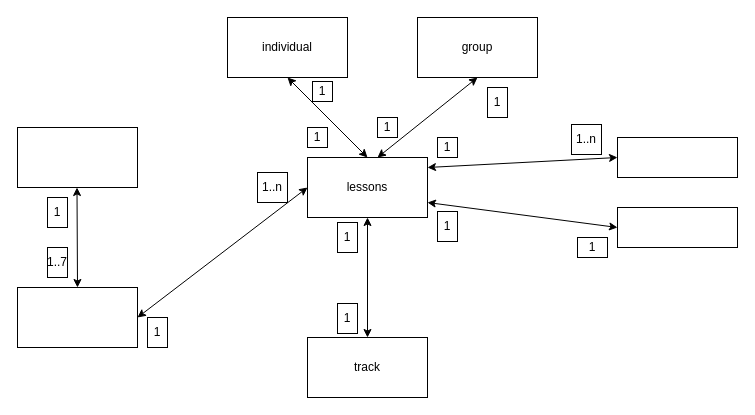
Some shapes in this 755 by 415 pixel diagram are drawn without their labels. Each missing label, with the box of its shape:
day: (16, 286, 138, 348)
instructor: (616, 206, 738, 248)
students: (616, 136, 738, 178)
week: (16, 126, 138, 188)
